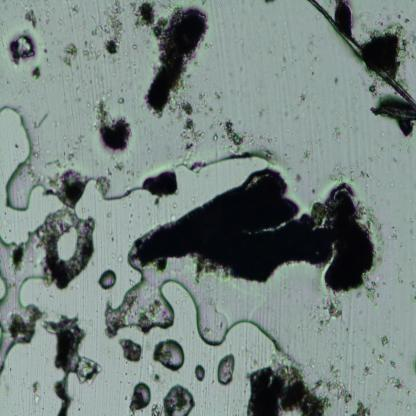Air bubble: (173, 277, 282, 358), (0, 102, 53, 213), (98, 266, 177, 340), (152, 336, 186, 374), (161, 383, 195, 416), (215, 354, 238, 390), (132, 377, 152, 405), (100, 268, 116, 290), (194, 364, 205, 382)
Background material: (318, 185, 386, 300), (144, 4, 210, 115), (0, 232, 44, 368), (45, 311, 96, 416), (239, 356, 322, 416), (43, 208, 95, 284), (374, 334, 416, 416), (314, 364, 376, 414), (90, 94, 134, 154), (217, 115, 278, 154), (364, 24, 407, 75), (171, 95, 203, 161), (297, 293, 346, 334), (371, 102, 416, 136), (130, 0, 169, 37), (48, 171, 86, 207), (330, 156, 370, 186), (139, 170, 180, 199), (105, 0, 124, 62), (5, 314, 40, 346), (10, 32, 35, 64), (334, 0, 355, 37), (118, 336, 146, 363), (67, 130, 88, 165), (363, 276, 382, 314), (82, 36, 102, 63), (93, 170, 112, 196), (296, 76, 311, 107), (206, 110, 225, 133), (303, 138, 321, 161), (60, 43, 78, 66), (24, 4, 40, 28), (24, 165, 40, 187), (306, 33, 317, 63), (13, 244, 23, 274), (34, 110, 50, 128), (31, 380, 41, 408), (369, 83, 386, 98), (91, 15, 102, 38), (368, 145, 383, 161), (212, 85, 226, 102), (407, 32, 416, 58), (259, 101, 273, 117), (44, 159, 65, 169), (31, 63, 42, 81), (72, 83, 81, 103), (407, 282, 416, 301), (151, 402, 163, 416), (294, 171, 304, 187), (70, 4, 83, 16), (402, 138, 410, 156), (130, 404, 142, 416), (397, 262, 403, 286), (332, 127, 342, 141), (42, 56, 52, 69), (128, 59, 138, 72), (113, 157, 123, 170), (126, 167, 135, 181), (152, 373, 163, 384), (106, 229, 115, 242), (306, 184, 316, 194), (388, 233, 400, 241), (116, 95, 125, 105), (238, 62, 245, 74), (153, 196, 161, 206), (120, 82, 128, 92), (283, 154, 291, 164), (374, 20, 385, 27), (332, 74, 338, 86), (315, 11, 322, 21), (64, 73, 72, 81), (13, 142, 20, 151), (106, 165, 112, 175), (309, 64, 314, 76), (129, 278, 136, 286), (394, 11, 402, 18), (44, 19, 51, 27), (279, 64, 286, 72), (240, 38, 245, 48), (45, 11, 52, 18), (85, 99, 91, 107), (146, 146, 152, 154), (376, 178, 382, 186), (88, 319, 94, 327), (231, 4, 236, 13), (264, 0, 273, 5), (404, 17, 410, 24), (128, 197, 132, 207), (133, 42, 138, 50), (409, 227, 414, 235), (409, 216, 414, 224), (44, 48, 50, 54), (128, 233, 132, 242), (256, 86, 262, 92), (274, 72, 280, 78), (283, 43, 288, 50), (122, 201, 127, 208), (112, 251, 116, 259), (284, 56, 288, 64), (124, 394, 128, 402), (358, 290, 362, 298), (390, 180, 394, 188), (390, 142, 396, 147), (249, 0, 254, 6), (58, 20, 64, 25), (44, 0, 49, 6), (107, 212, 111, 219), (382, 279, 386, 286), (372, 347, 376, 354), (285, 110, 289, 117), (400, 242, 404, 249), (367, 343, 372, 348), (98, 195, 102, 201), (212, 136, 218, 140), (51, 76, 55, 82), (202, 0, 207, 4), (77, 26, 82, 30), (119, 256, 123, 261), (82, 207, 86, 212), (147, 212, 151, 217), (130, 269, 134, 274), (343, 122, 347, 127), (392, 159, 397, 163), (35, 153, 38, 159), (0, 0, 6, 3), (241, 0, 245, 4), (130, 213, 133, 218), (295, 115, 298, 120), (381, 132, 384, 136), (124, 372, 127, 376), (412, 236, 415, 240), (147, 206, 149, 211), (78, 408, 81, 411), (130, 220, 132, 224), (128, 381, 130, 384), (120, 381, 122, 383), (148, 367, 149, 370)
Cellulose filter fibre: (310, 0, 416, 106)
Fragment: (134, 168, 332, 284)
